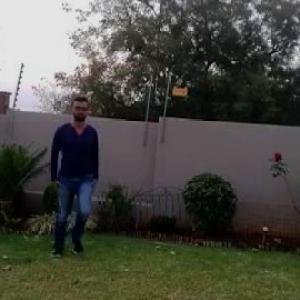follow: (49, 97, 100, 250)
